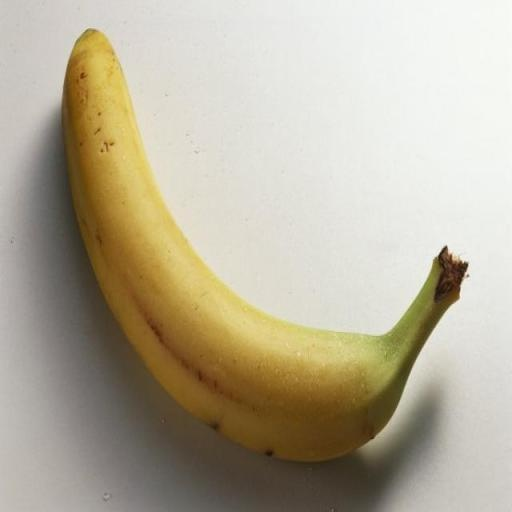fruit: (442, 123, 493, 404)
